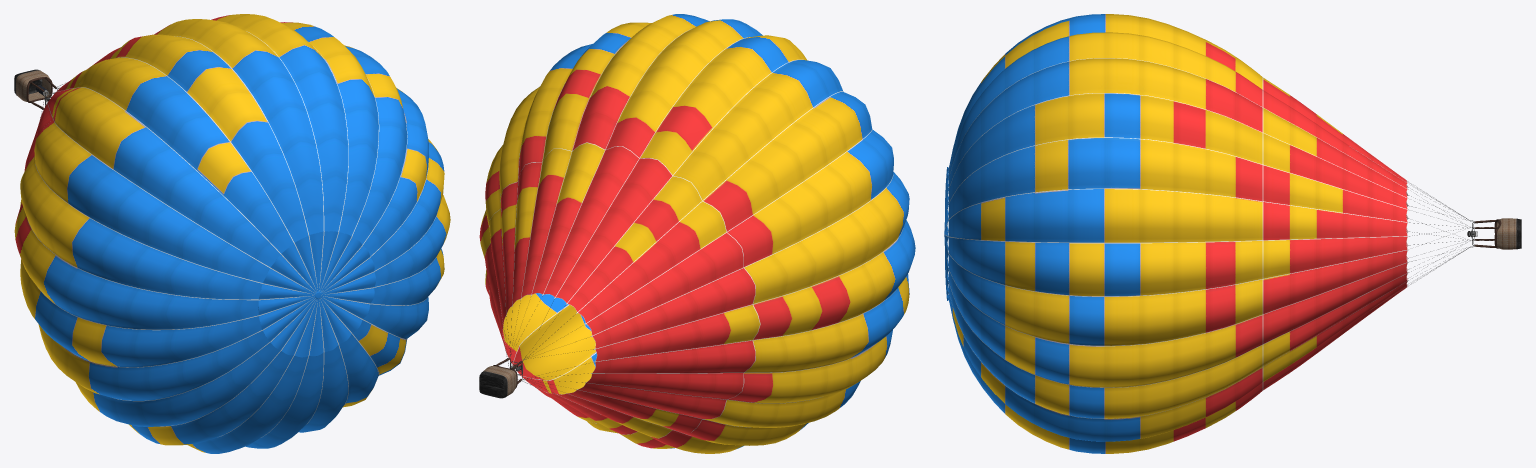
The model's file is 11809_Hot_air_balloon_l2.obj.
The picture shows the model from 3 angles, left to right: view 1: azimuth 30°, elevation 25°; view 2: azimuth 150°, elevation 25°; view 3: azimuth 270°, elevation 25°; orthographic projection.
Parts seen in each view (by area): view 1: 11809_Hot_air_balloon_Balloon, 11809_Hot_air_balloon_Top, 11809_Hot_air_balloon_Basket; view 2: 11809_Hot_air_balloon_Balloon, 11809_Hot_air_balloon_Basket; view 3: 11809_Hot_air_balloon_Balloon, 11809_Hot_air_balloon_Basket.
Boxes of the visible parts, bbox=[...] form: 11809_Hot_air_balloon_Balloon: bbox=[14, 14, 450, 453]; 11809_Hot_air_balloon_Top: bbox=[258, 231, 376, 357]; 11809_Hot_air_balloon_Basket: bbox=[14, 69, 50, 101]; 11809_Hot_air_balloon_Balloon: bbox=[479, 14, 915, 453]; 11809_Hot_air_balloon_Basket: bbox=[479, 365, 516, 398]; 11809_Hot_air_balloon_Balloon: bbox=[948, 14, 1470, 453]; 11809_Hot_air_balloon_Basket: bbox=[1497, 218, 1521, 249].
Bounding box in the file's own units: 2564 × 2564 × 3351.
Materials: 6 (6 with a texture image).
